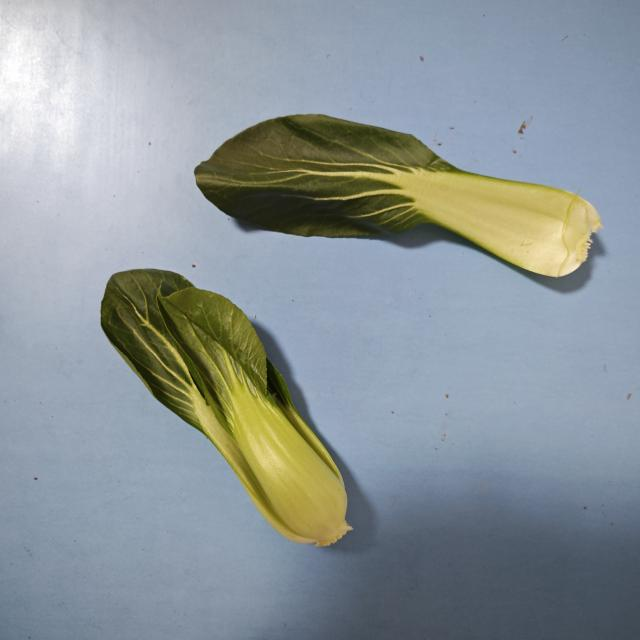-Kitchen waste - vegetable roots and leaves-: (102, 267, 354, 550), (189, 111, 599, 280)
